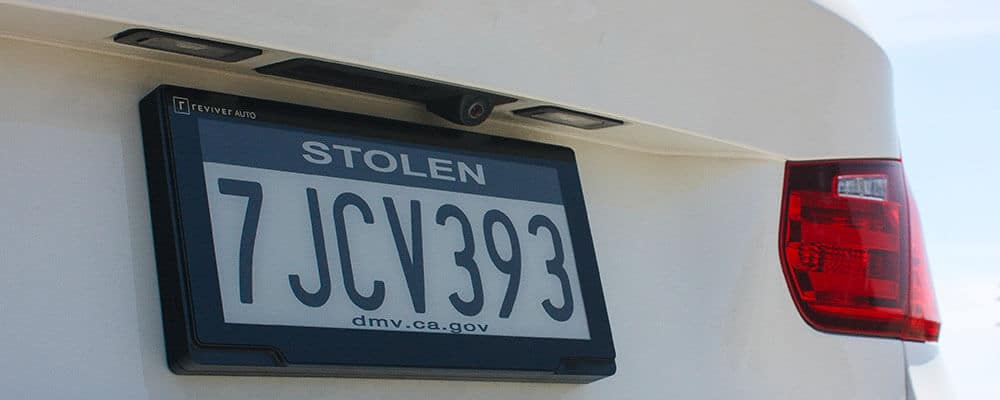license plate: (182, 113, 600, 342)
